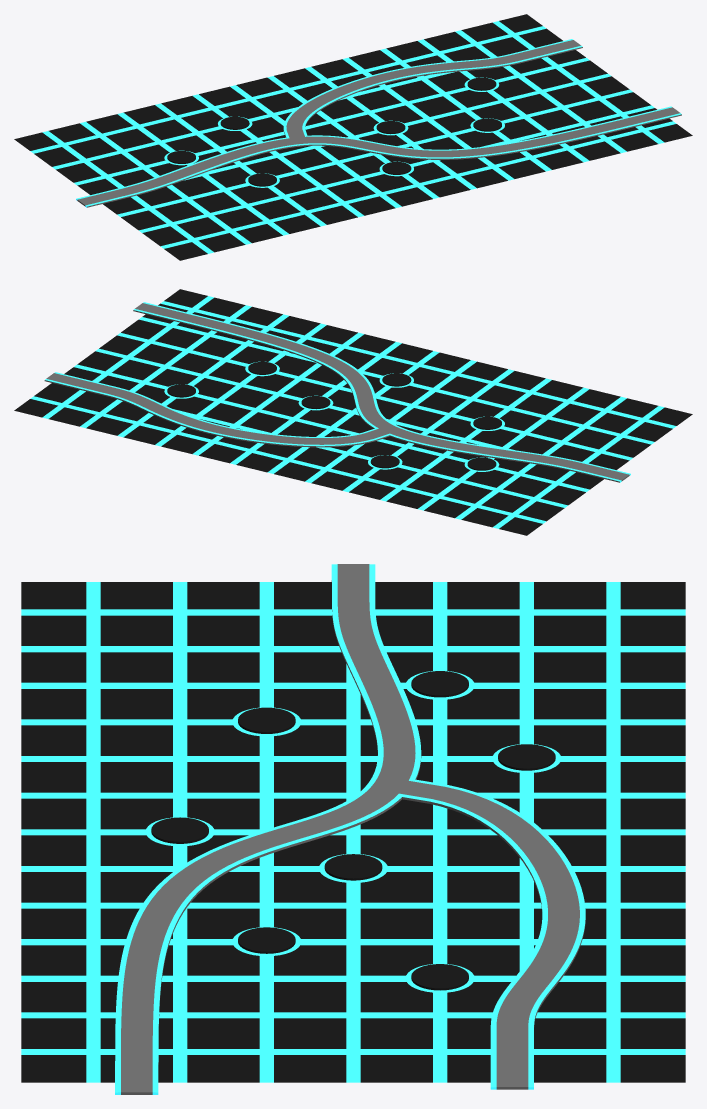
The model's file is level2.fbx.
3 views of the same model, one above another, from view 1: azimuth 30°, elevation 25°; view 2: azimuth 150°, elevation 25°; view 3: azimuth 270°, elevation 25° (orthographic). The views are drawn at different scales.
Parts seen in each view (by area): view 1: Field, Plane.001, Plane.002; view 2: Field, Plane.001, Plane.002; view 3: Field, Plane.001, Plane.002, Cylinder.002, Cylinder, Cylinder.003, Cylinder.006, Cylinder.001, Cylinder.005, Cylinder.004.
Boxes of the visible parts, x1,y1,x2,y2 form: Field: [14, 14, 692, 260]; Plane.001: [76, 106, 681, 207]; Plane.002: [283, 39, 582, 138]; Field: [14, 289, 692, 535]; Plane.001: [133, 302, 630, 482]; Plane.002: [44, 372, 390, 447]; Field: [21, 582, 685, 1082]; Plane.001: [115, 564, 421, 1094]; Plane.002: [399, 779, 585, 1089]; Cylinder.002: [324, 854, 382, 880]; Cylinder: [411, 964, 468, 990]; Cylinder.003: [411, 671, 468, 697]; Cylinder.006: [151, 817, 208, 843]; Cylinder.001: [238, 927, 295, 953]; Cylinder.005: [498, 744, 555, 770]; Cylinder.004: [238, 707, 295, 733].
Bounding box in the file's own units: 4325 × 20 × 2300.
